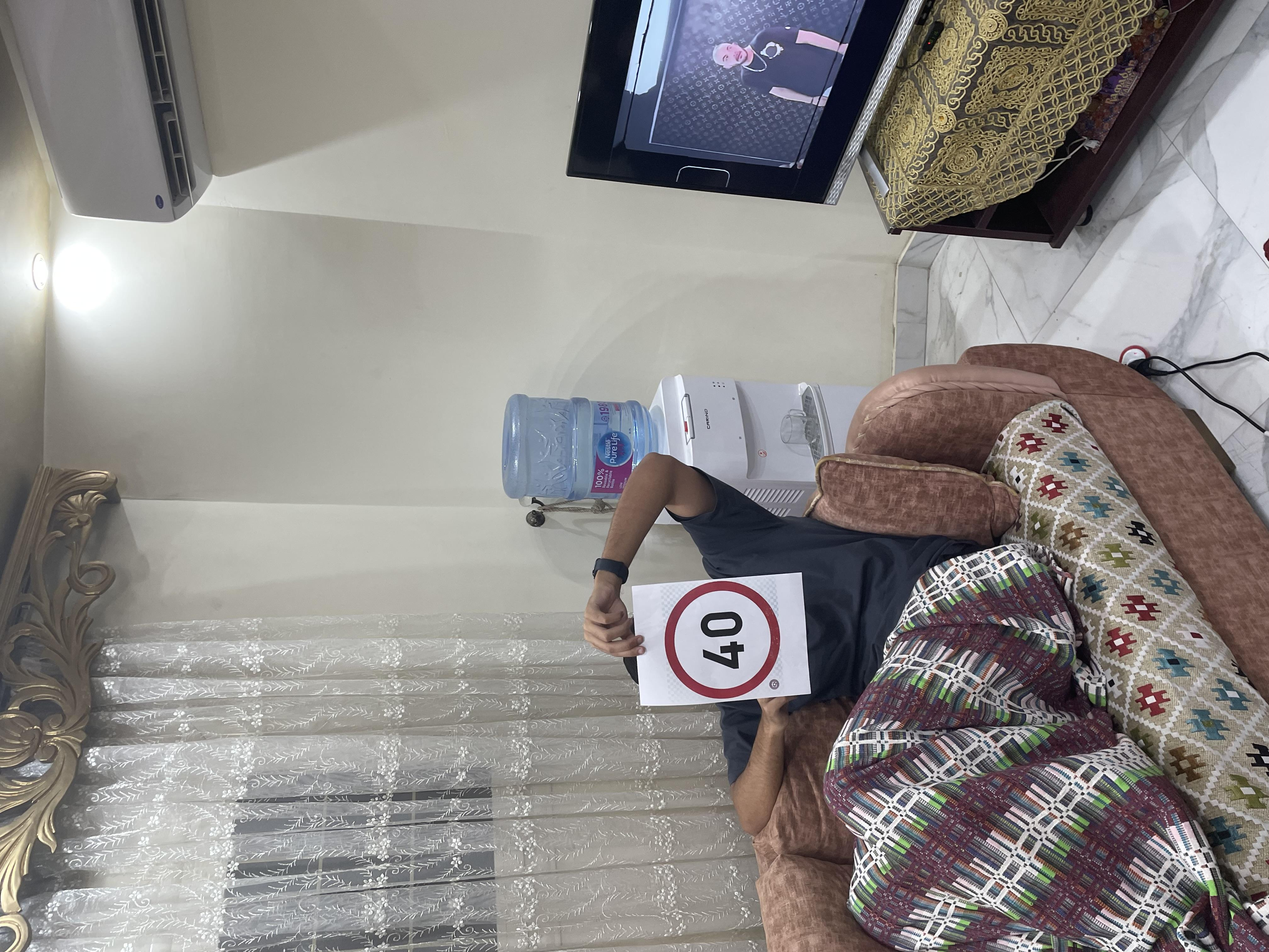40-Speed: (341, 498, 496, 585)
